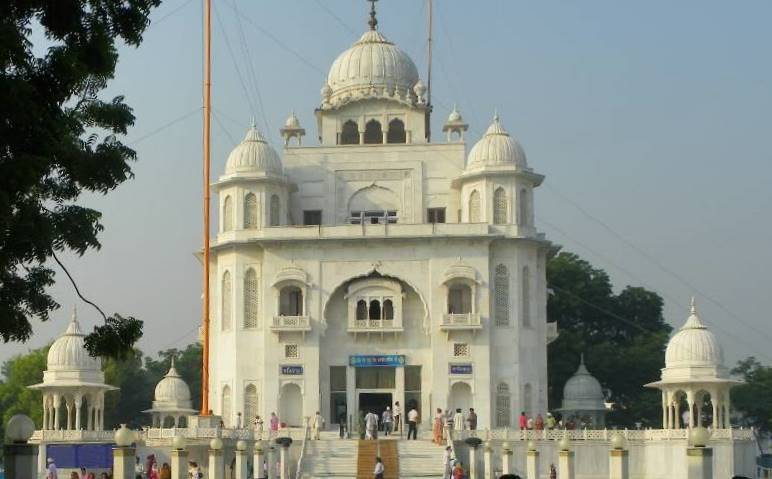Gurdwara: (53, 3, 730, 476)
